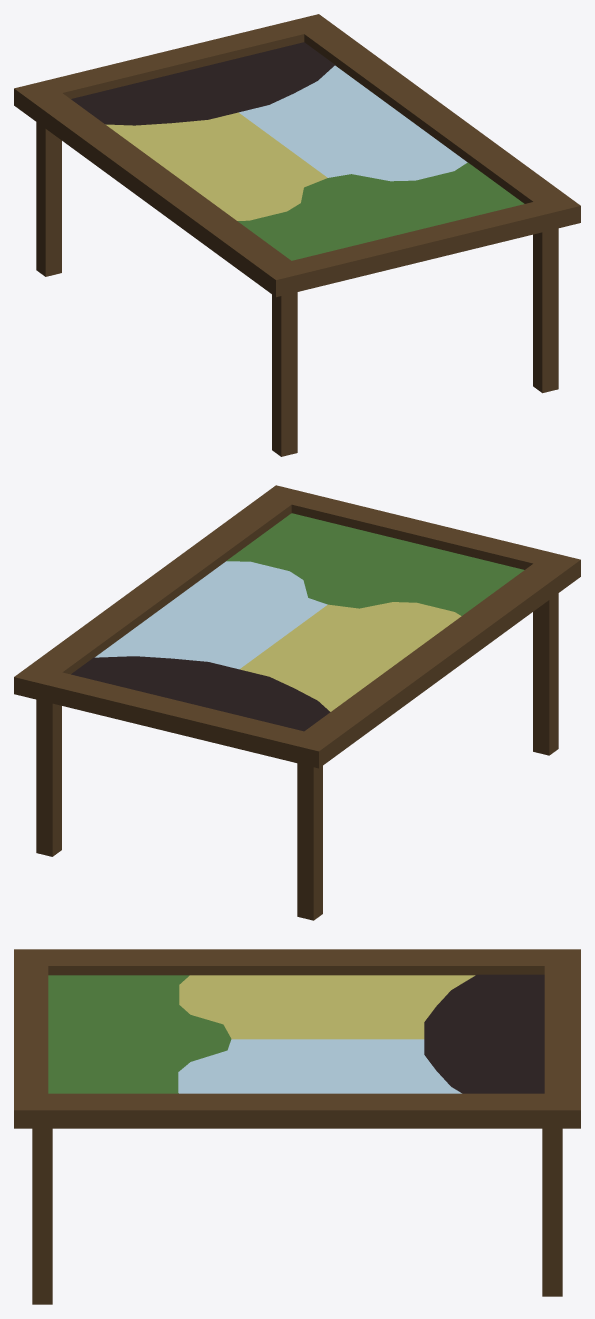
File: SM_T_Table.fbx
The picture shows the model from 3 angles, top to bottom: view 1: azimuth 30°, elevation 25°; view 2: azimuth 150°, elevation 25°; view 3: azimuth 270°, elevation 25°; orthographic projection. The views are drawn at different scales.
Parts seen in each view (by area): view 1: Table; view 2: Table; view 3: Table.
Boxes of the visible parts, box(x1,y1,x2,y2) form: Table: box(14, 14, 580, 456); Table: box(14, 485, 580, 920); Table: box(14, 949, 580, 1304).
Size of the model in its own units: 18.68 by 10.91 by 27.8.
